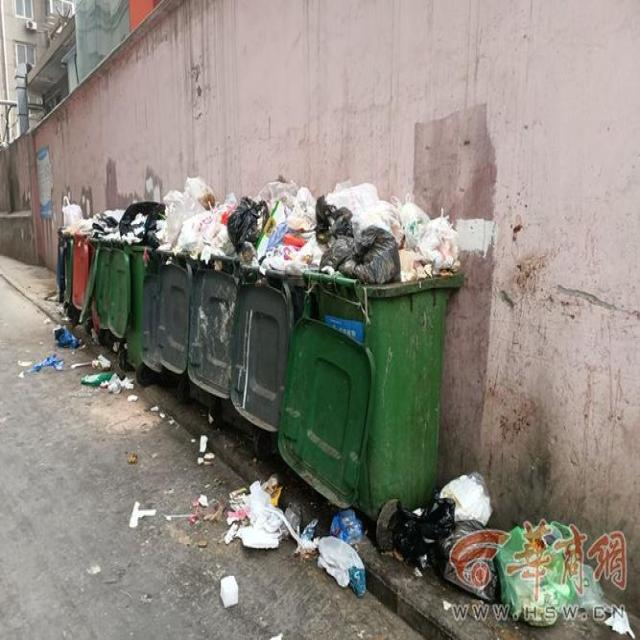garbage: (385, 470, 639, 637), (128, 434, 364, 605), (15, 325, 138, 403)
overflow: (276, 180, 495, 520), (233, 172, 316, 432), (141, 176, 212, 372), (187, 192, 232, 407), (119, 198, 163, 366), (88, 206, 128, 347), (56, 193, 80, 315), (72, 214, 92, 316)
